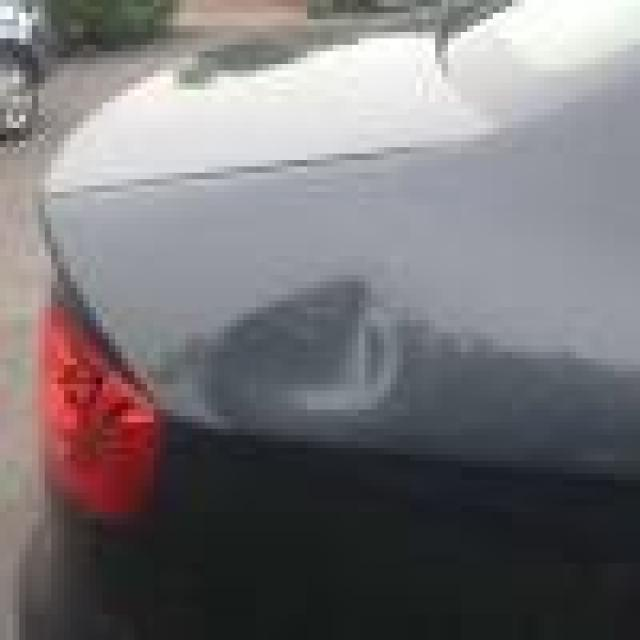minor: (159, 221, 523, 432)
